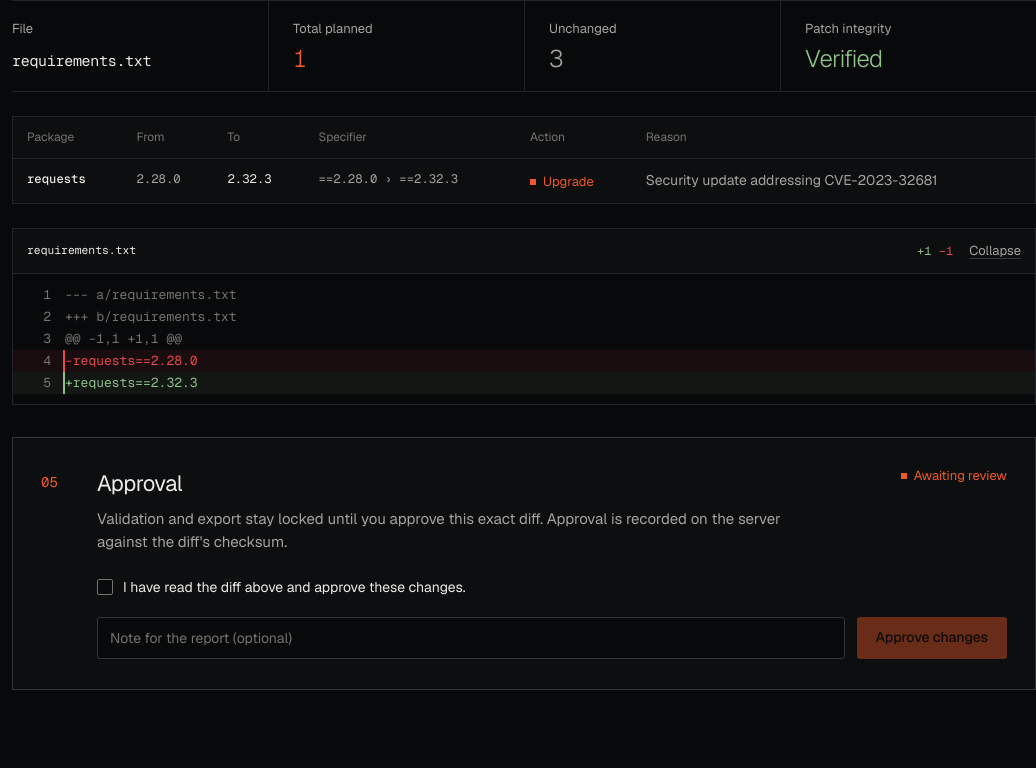
PlanReviewer Component › enforces human confirmation checkbox before enabling approval button
Later steps or results of the test are not shown.
Expected: the button with test id "confirm-approval-btn" is disabled, [856, 617, 1007, 659]
Click the checkbox with test id "approval-checkbox" at point(105, 587), box [97, 579, 113, 595]
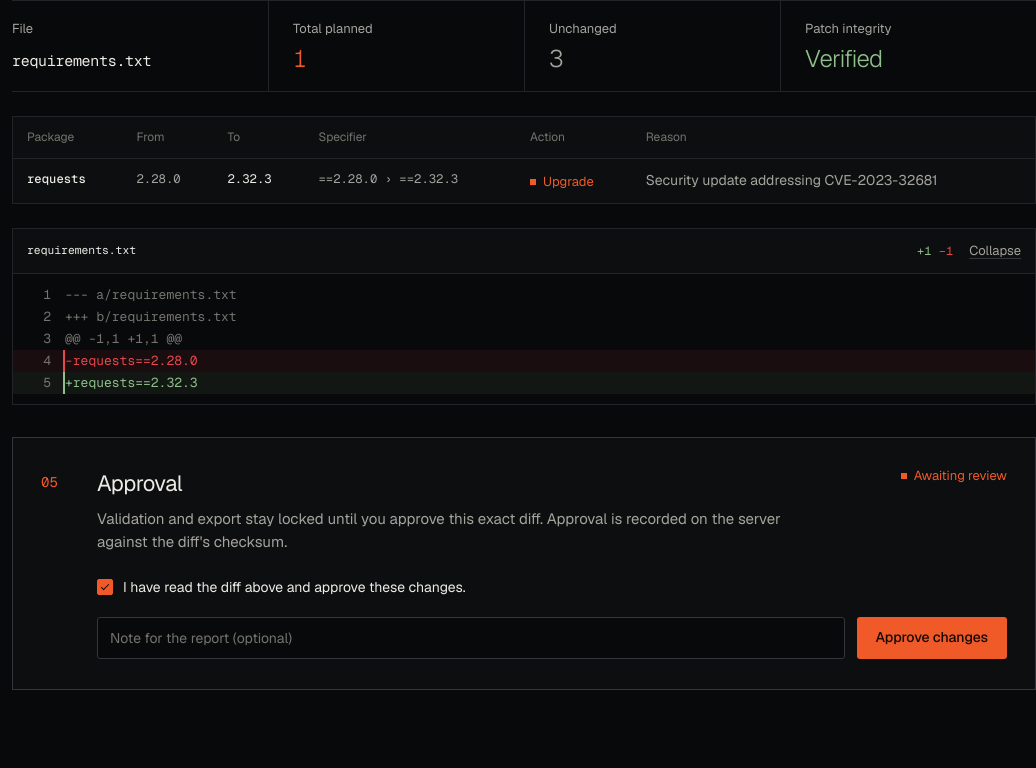
Result: the button with test id "confirm-approval-btn" is enabled at [856, 617, 1007, 659]
